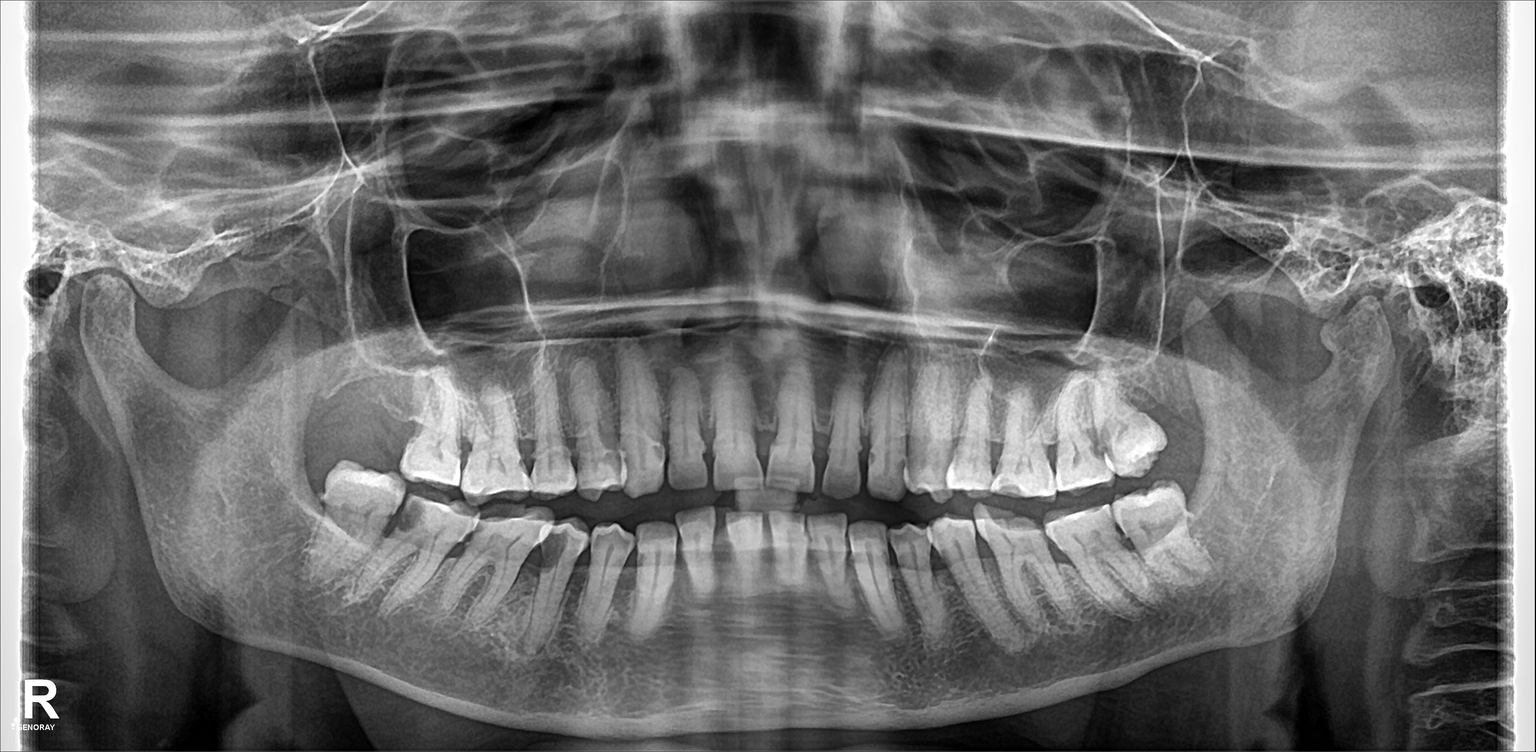Dental Caries: (384, 490, 417, 541), (536, 530, 568, 573), (1089, 421, 1107, 460)
Missing Tooth: (361, 367, 405, 457), (1153, 370, 1199, 454), (320, 370, 361, 463)
